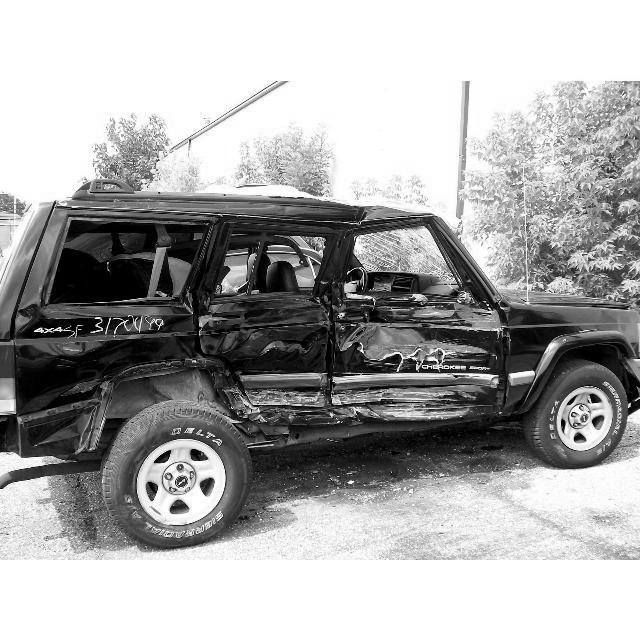Runningboard-Damage: (219, 391, 497, 448)
doorouter-dent: (339, 205, 505, 425), (206, 208, 340, 451)
quaterpanel-dent: (20, 311, 214, 461)
roof-dent: (35, 185, 438, 220)
